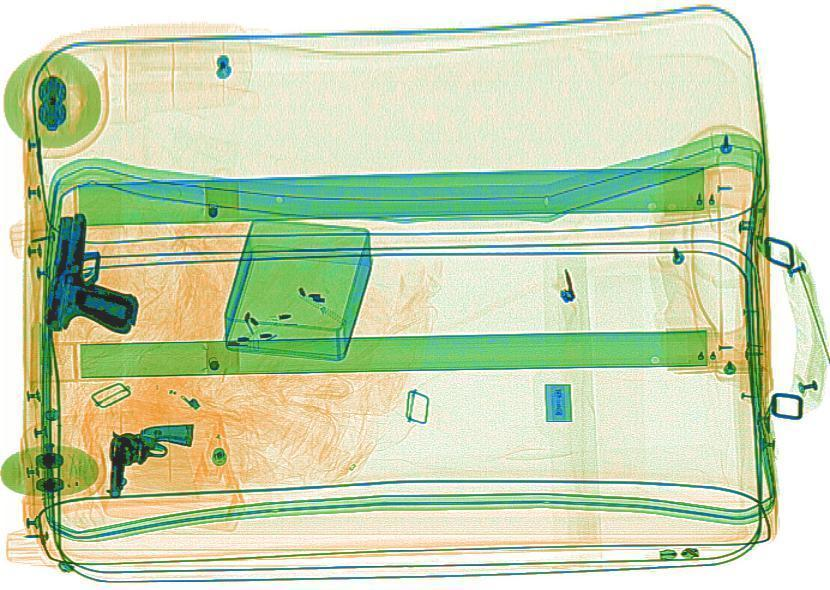Gun: (41, 210, 145, 335), (96, 414, 195, 506)
